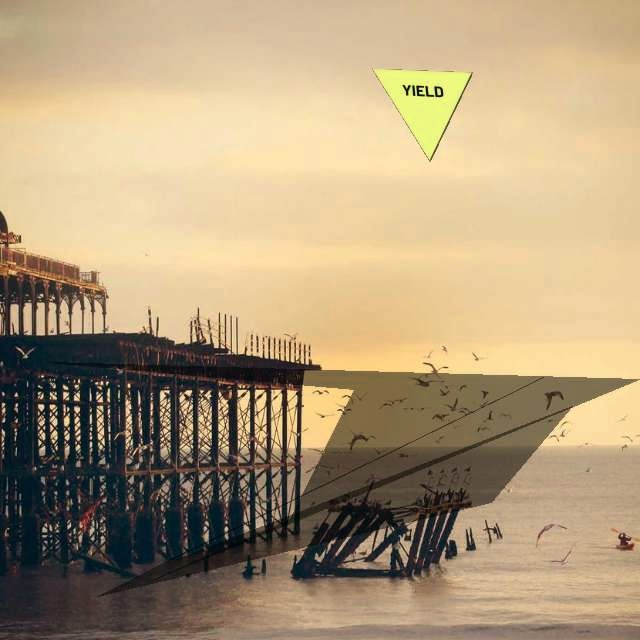YIELD: (371, 68, 473, 162)
